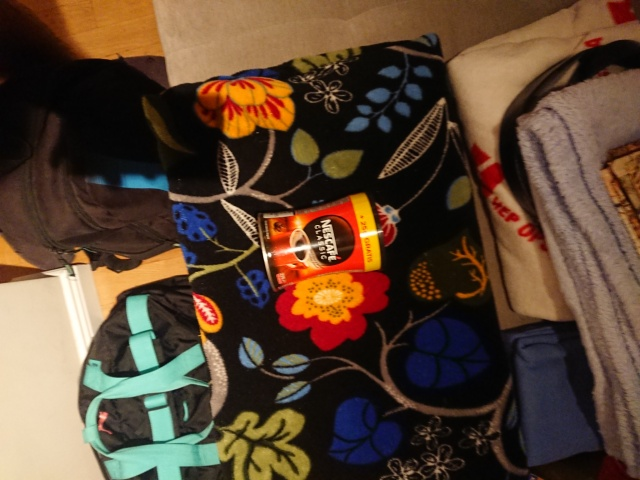Nescafe Classic 225g: (254, 187, 390, 294)
